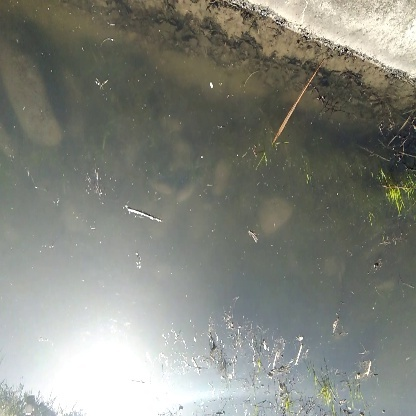branch: (121, 196, 170, 231)
